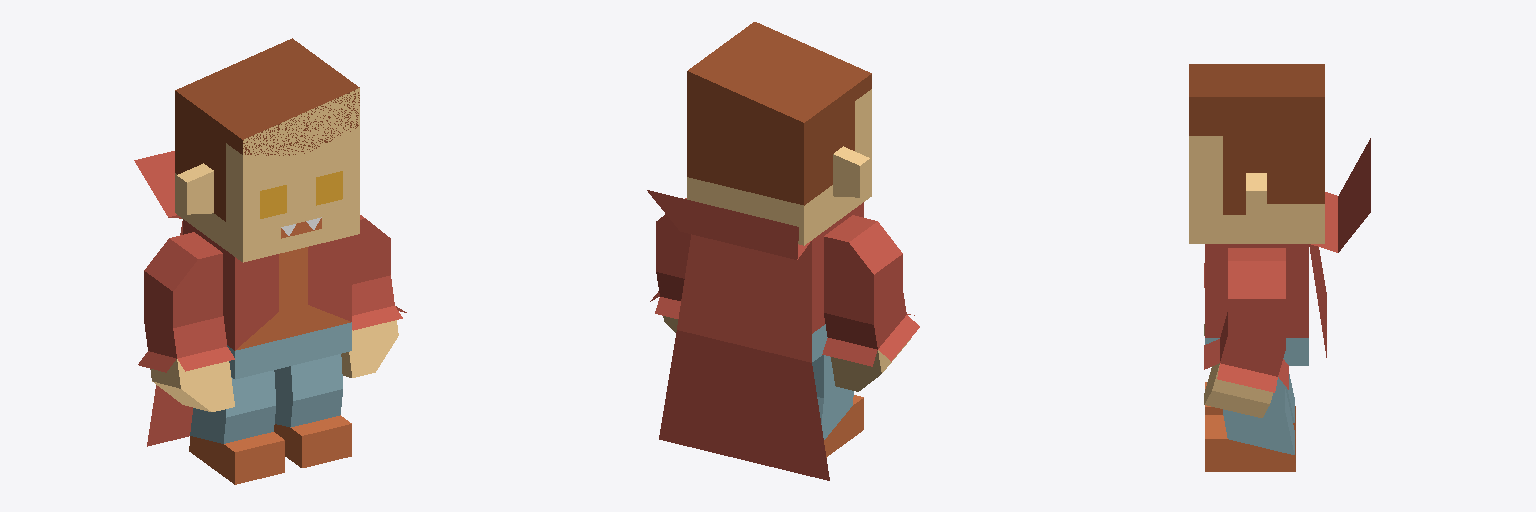
The model's file is characterVampire.obj.
3 views of the same model, side by side, from view 1: azimuth 30°, elevation 25°; view 2: azimuth 150°, elevation 25°; view 3: azimuth 270°, elevation 25° (orthographic).
Parts seen in each view (by area): view 1: head, body, armRight, legRight, legLeft, armLeft, cape; view 2: cape, head, armRight, legRight, armLeft, body; view 3: head, armLeft, legLeft, body, cape.
Part boxes in pixels (bbox=[...]): head: bbox=[175, 38, 359, 262]; body: bbox=[183, 219, 351, 379]; armRight: bbox=[138, 232, 234, 411]; legRight: bbox=[189, 370, 284, 484]; legLeft: bbox=[274, 354, 351, 467]; armLeft: bbox=[341, 215, 406, 377]; cape: bbox=[134, 151, 192, 446]; cape: bbox=[647, 190, 829, 480]; head: bbox=[687, 22, 871, 245]; armRight: bbox=[822, 215, 919, 391]; legRight: bbox=[812, 355, 863, 457]; armLeft: bbox=[650, 198, 690, 332]; body: bbox=[812, 202, 863, 361]; head: bbox=[1189, 64, 1324, 243]; armLeft: bbox=[1204, 248, 1288, 417]; legLeft: bbox=[1205, 377, 1295, 471]; body: bbox=[1205, 244, 1308, 365]; cape: bbox=[1309, 138, 1370, 357].
Bounding box in the file's own units: 0.5371 × 0.7932 × 0.3489.